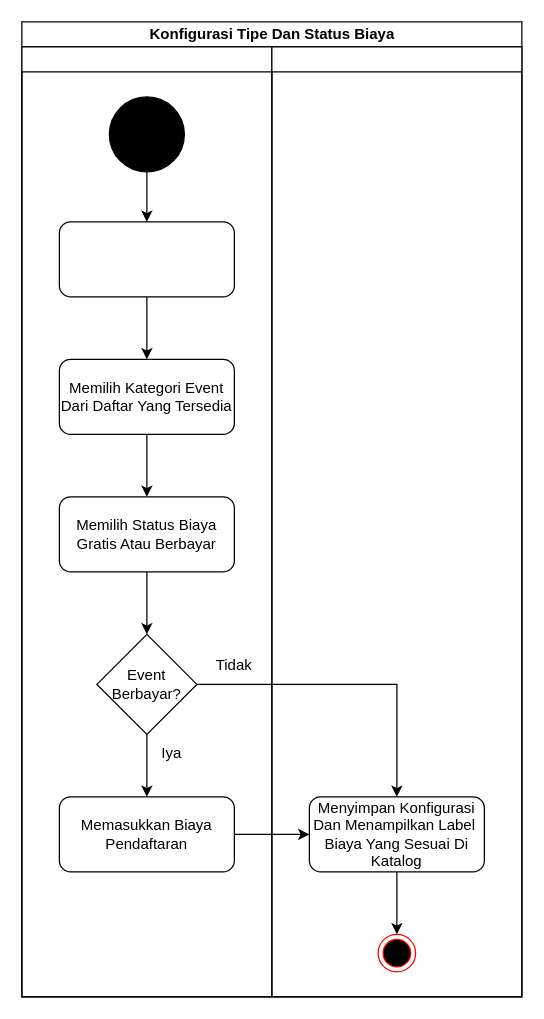
Image size: 544x1019. Some labels were removed from this diagram. The shapes that lost their labels are listed below. From the top down, each one's box as (x1, y1, x2, y2) in pixels, then its label:
(58, 221, 234, 297): Membuka Tab Pengaturan Event Pada Formulir Pembuatan Atau Edit Event
(21, 46, 272, 997): Panitia
(271, 46, 522, 997): Sistem
